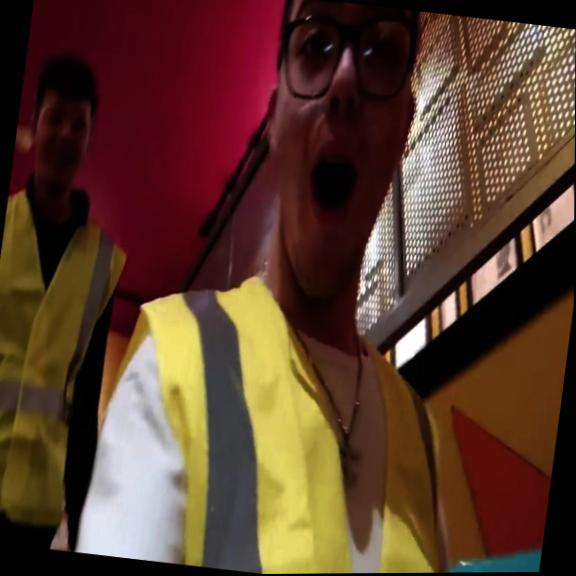safety_vest: (91, 259, 484, 575), (0, 184, 136, 532)
